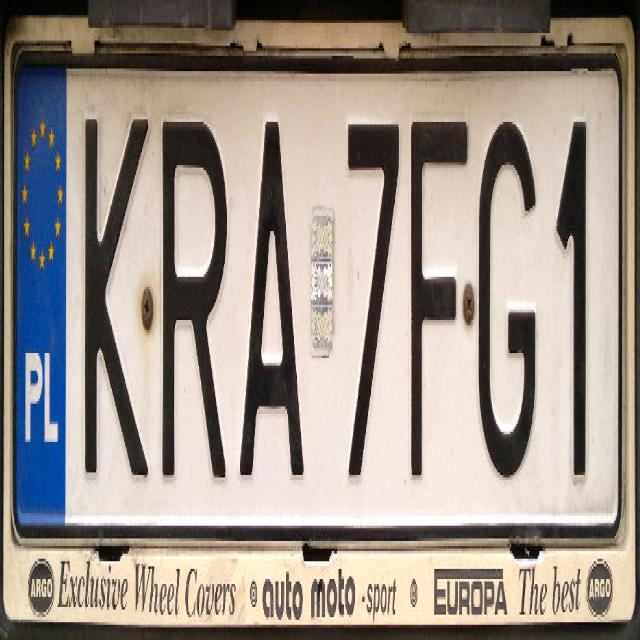pl_license_plate: (17, 53, 618, 518)
